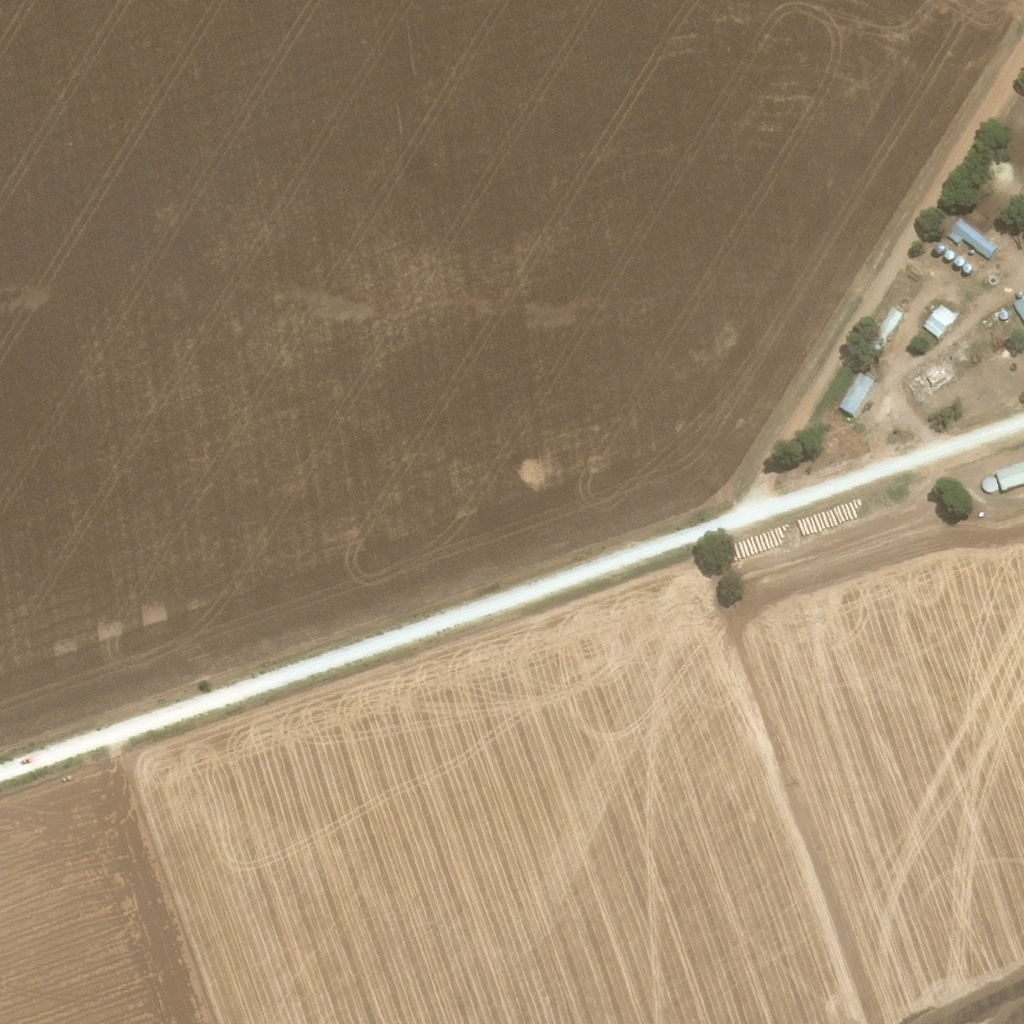0 no-damage: (947, 219, 996, 259), (838, 371, 875, 416), (868, 306, 901, 352), (921, 304, 955, 341), (998, 461, 1023, 493), (980, 477, 999, 495), (998, 310, 1010, 321), (934, 242, 945, 252), (962, 263, 972, 272), (944, 251, 954, 259), (954, 257, 964, 265), (1015, 291, 1022, 298)
3 destroyed: (986, 276, 995, 285)
